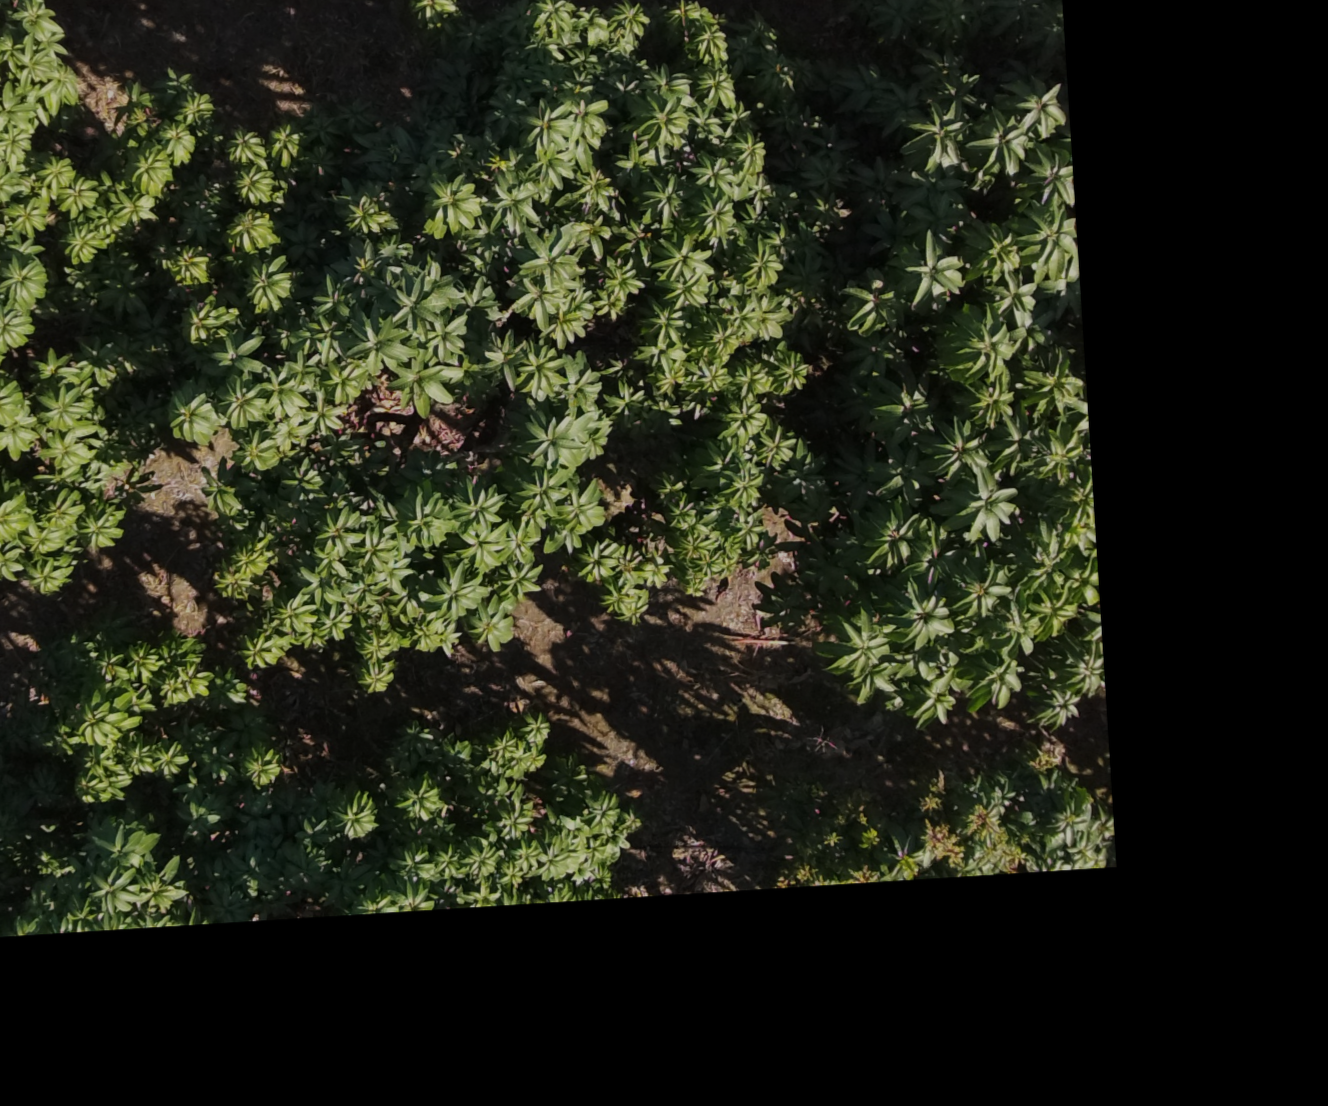flowers: (772, 859, 880, 885), (923, 818, 962, 867)
